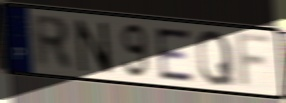9: (119, 22, 151, 81)
E: (153, 26, 197, 83)
F: (234, 31, 274, 92)
N: (73, 17, 116, 77)
Q: (195, 28, 237, 88)
R: (32, 12, 76, 74)
